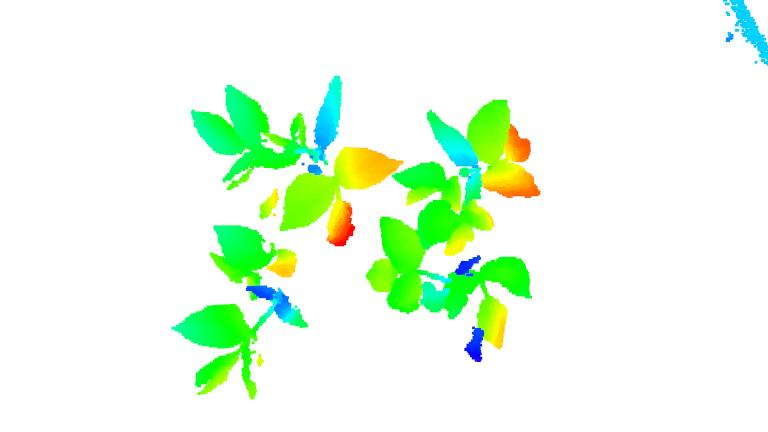mungbean: (186, 70, 406, 248), (172, 226, 309, 399), (367, 215, 540, 349), (401, 97, 538, 222)
